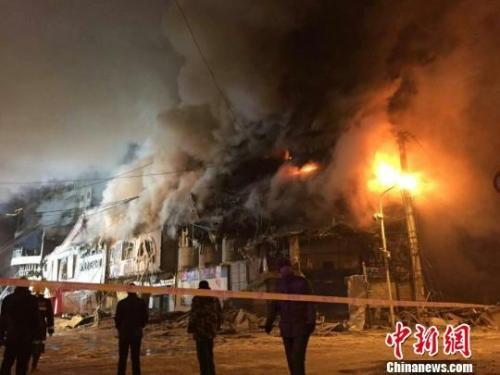fire: (349, 145, 451, 209)
smoke: (151, 14, 326, 240)
